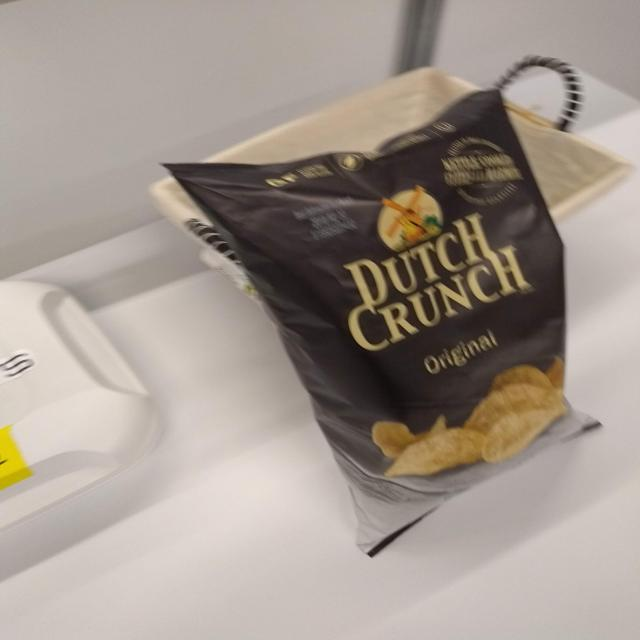potato_chips: (157, 84, 614, 562)
